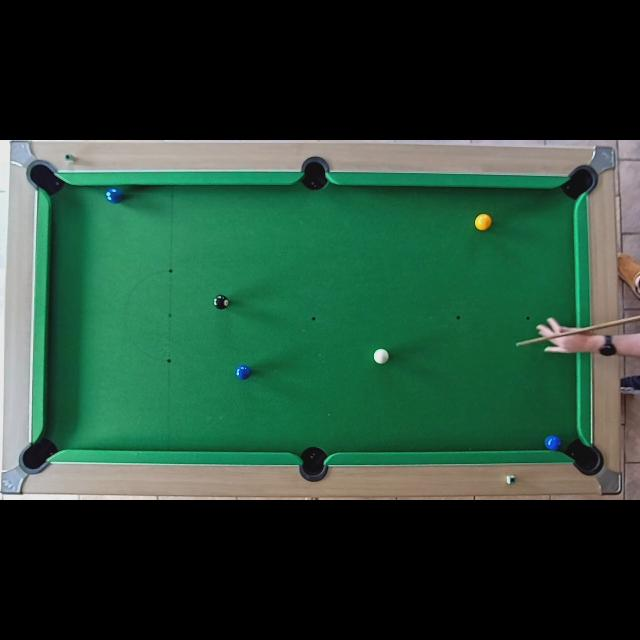Ball: (474, 213, 492, 231), (212, 294, 230, 310), (543, 435, 561, 451), (373, 348, 389, 364), (106, 188, 122, 204), (234, 366, 252, 380)
